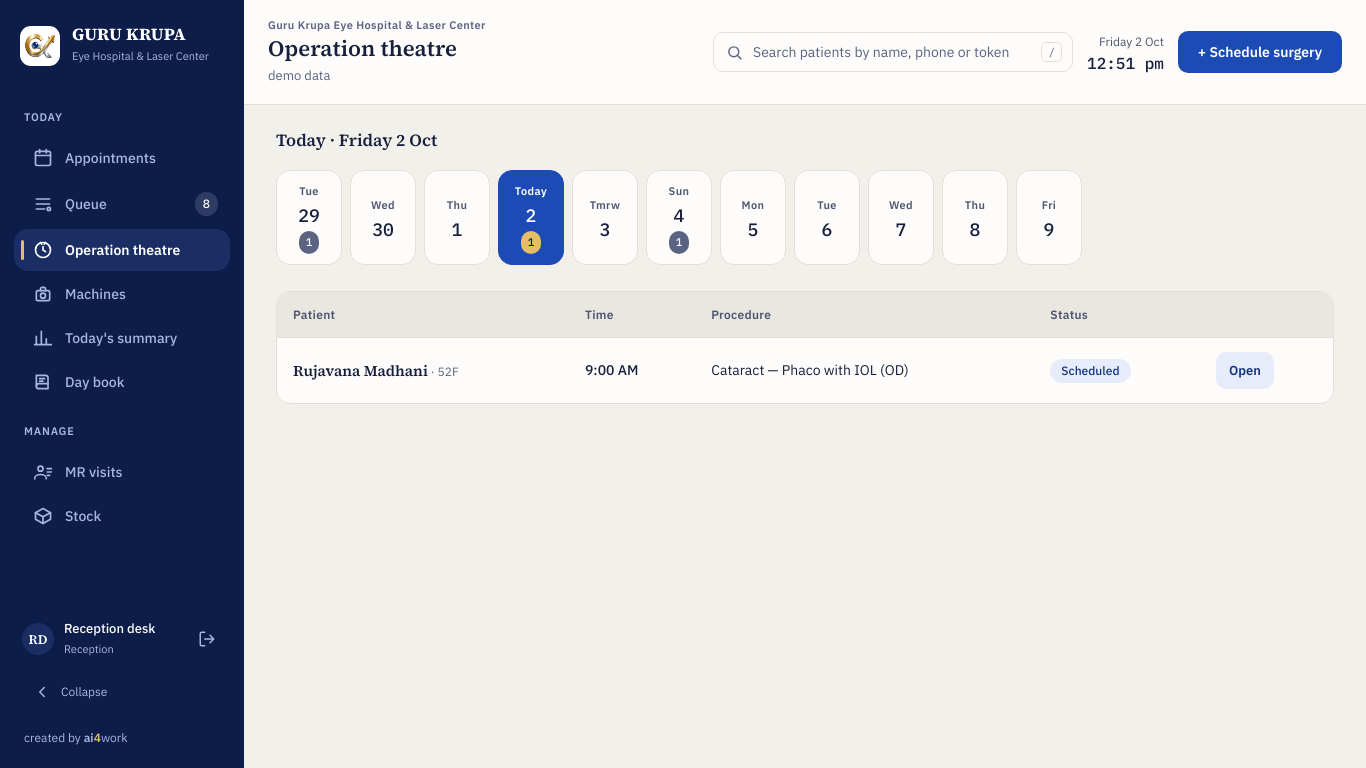
Test case: OT screen (F6) › OT team: add an outside doctor from the list — qualification and fee filled — and it is saved
The width and height of the screenshot is (1366, 768).
Click the row with test id "ot-row-1" at (805, 370), box [277,338,1333,403]
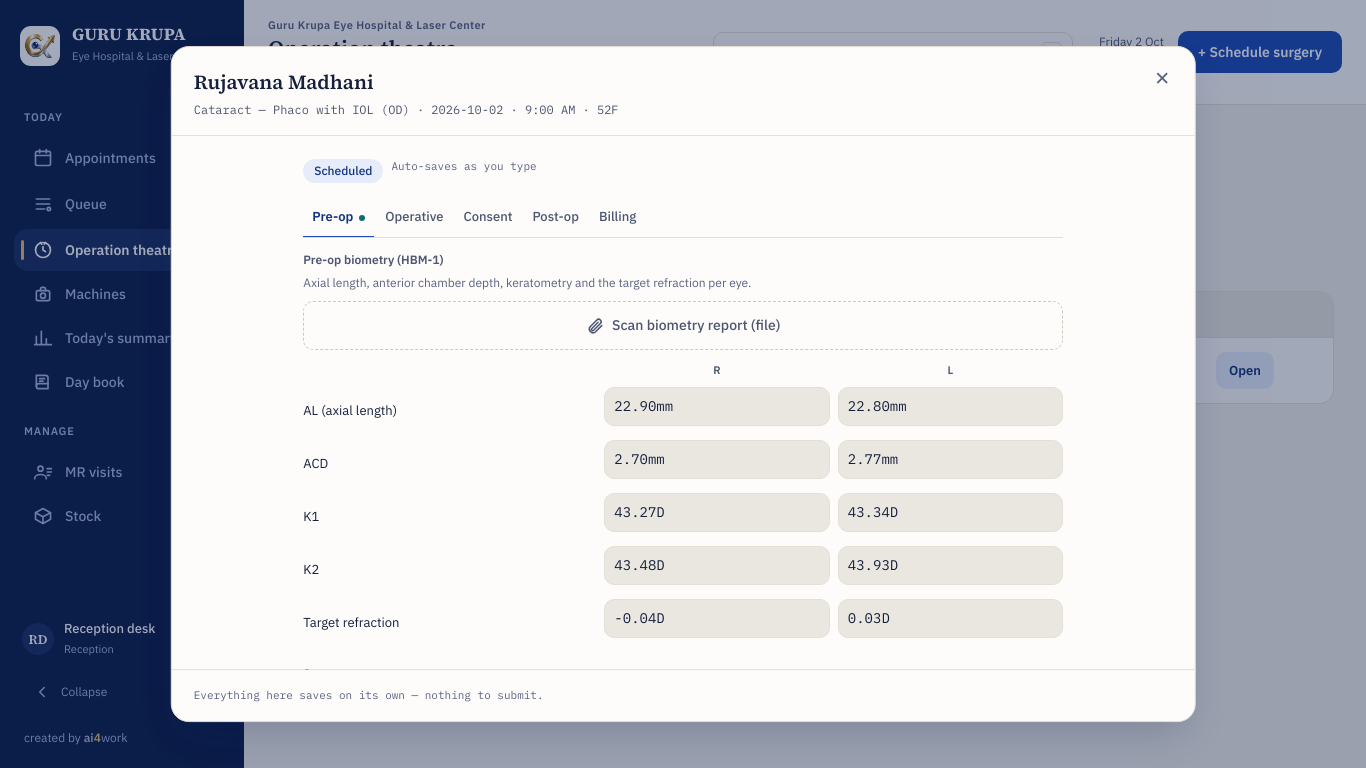
Click the tab "Operative" at (414, 218), box [376,197,452,238]
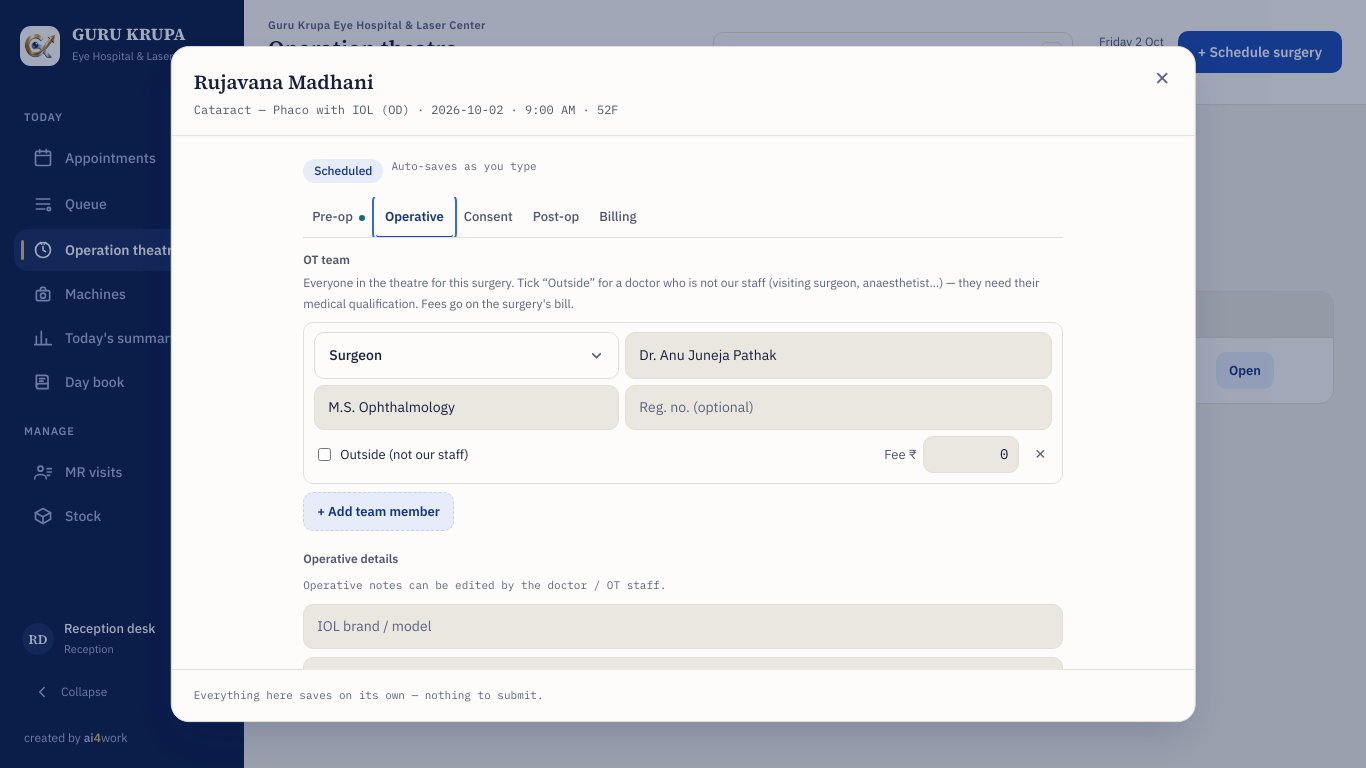
Click the button "+ Add team member" at (378, 512), box [303,492,454,531]
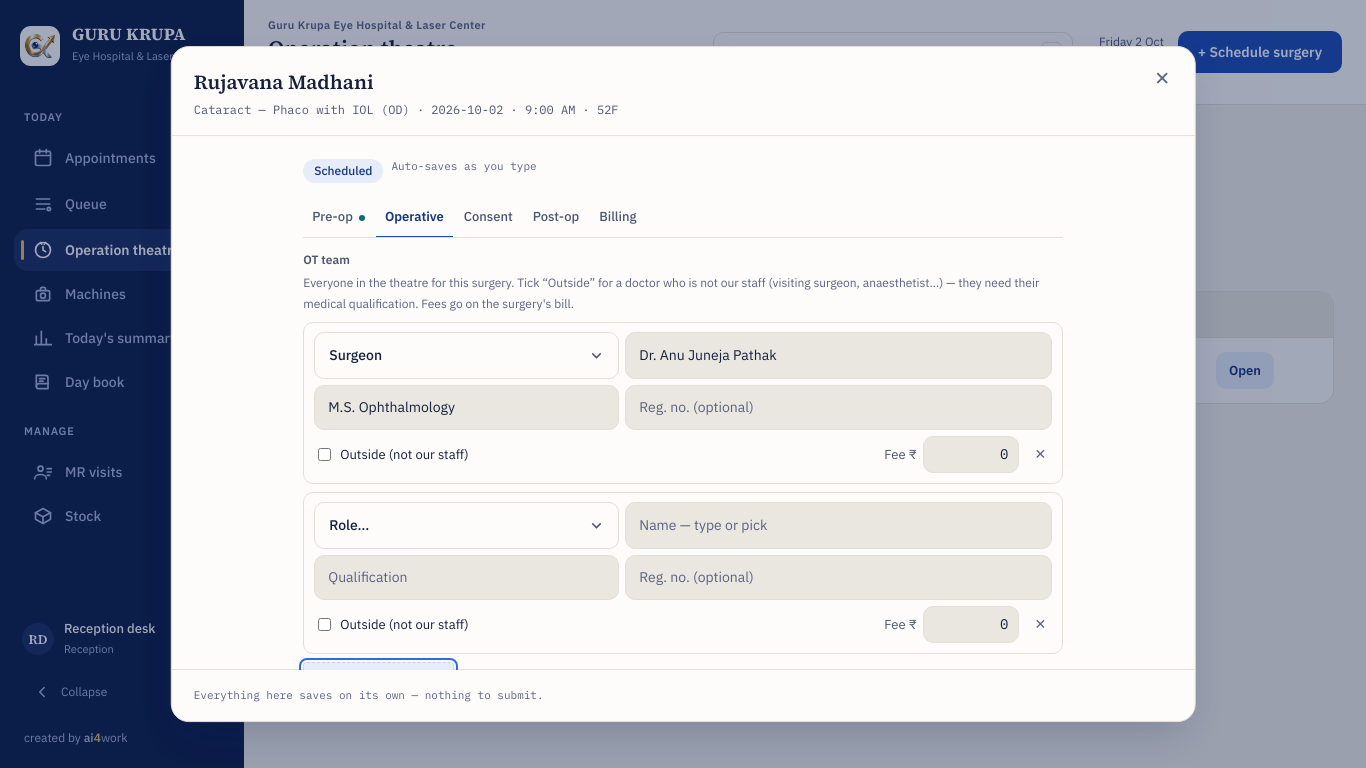
Select "Anaesthetist" in the dropdown named "Role 2" at (466, 526), box [314,502,619,549]
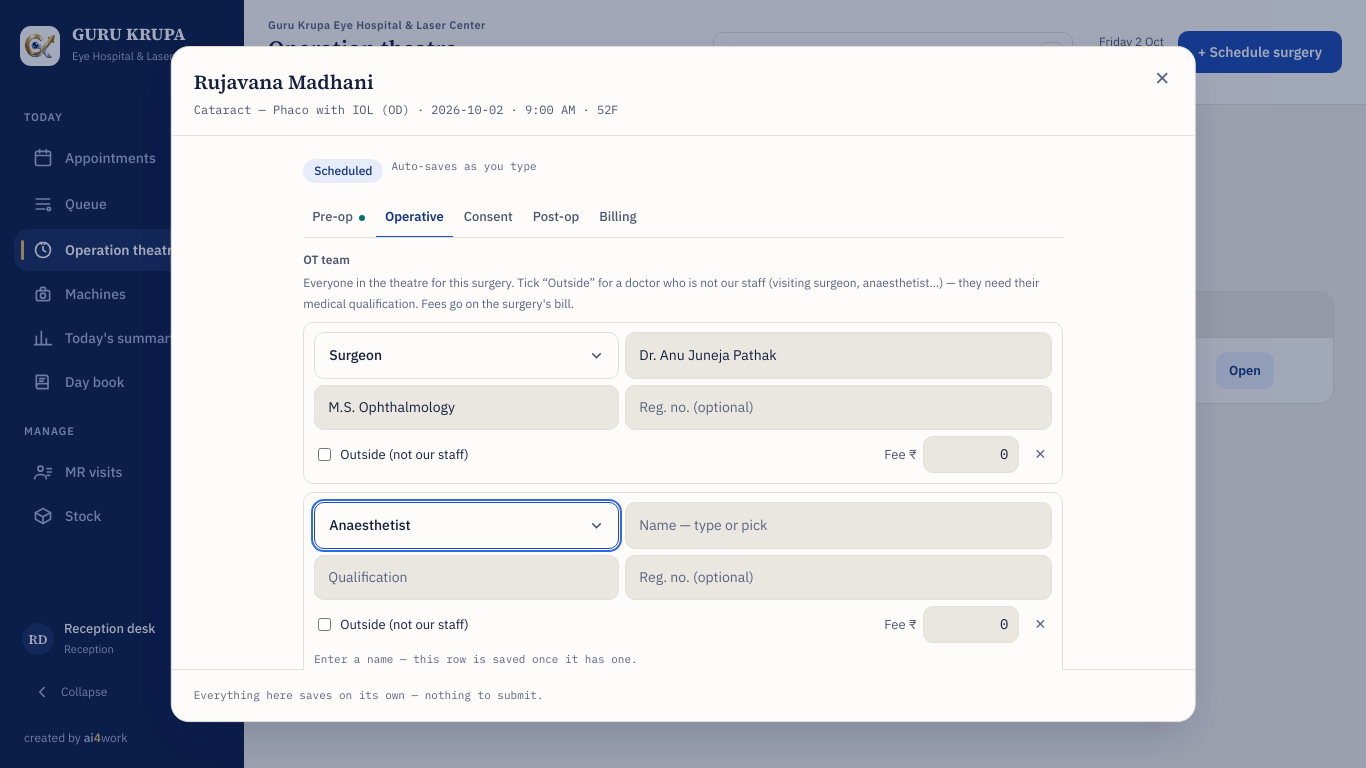
Type "Dr. Kavita Shah" into the field named "Name 2" at (838, 526), box [625,502,1052,549]
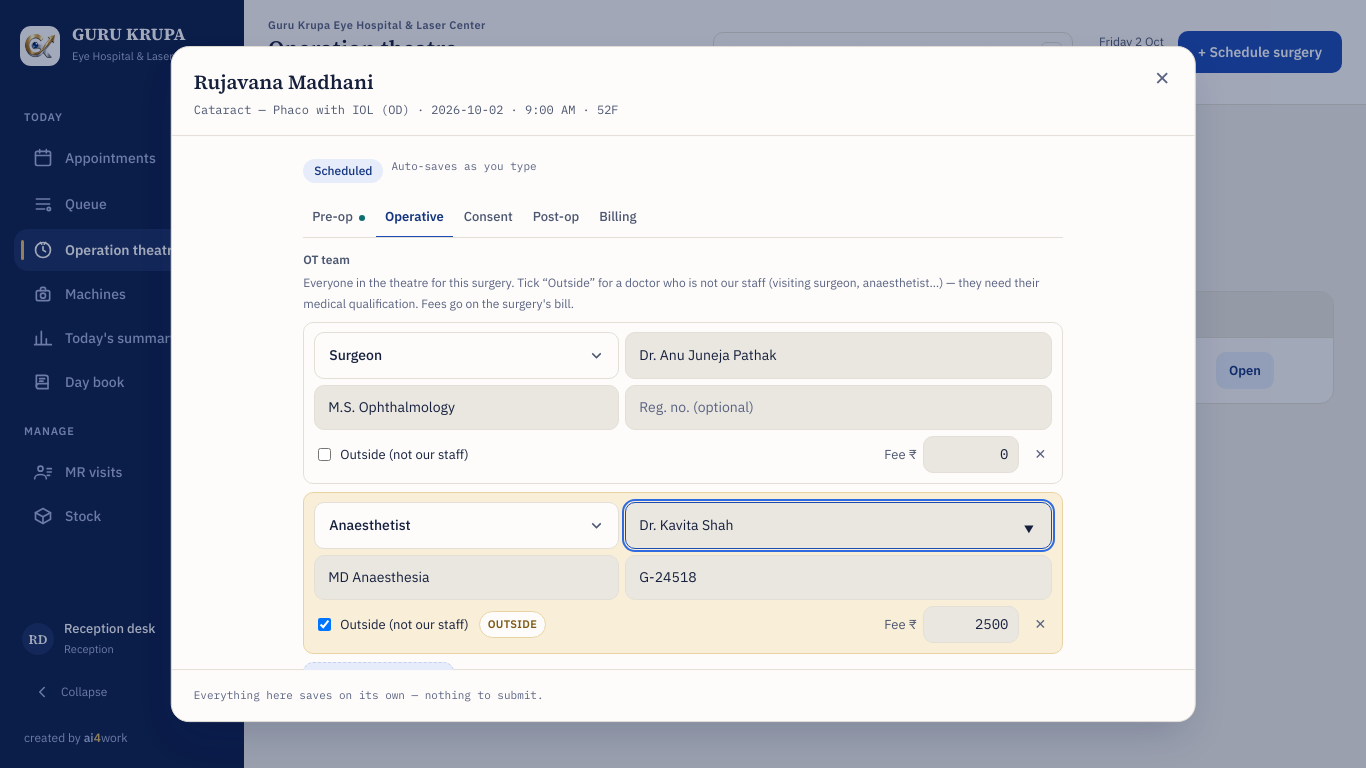
Check: the field named "Qualification 2" holds "MD Anaesthesia", box [314,555,619,600]
Check: the field named "Reg. no. 2" holds "G-24518", box [625,555,1052,600]
Check: the checkbox named "Outside (not our staff) 2" is checked, box [318,618,331,631]
